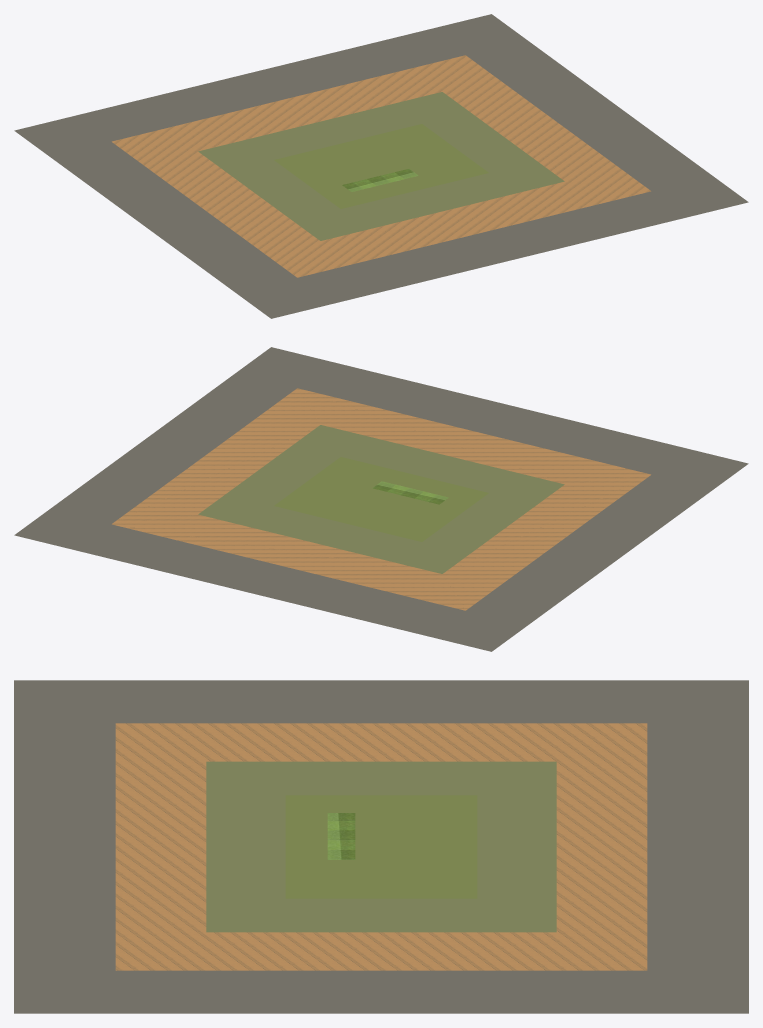
The model's file is plano.obj.
The picture shows the model from 3 angles, top to bottom: view 1: azimuth 30°, elevation 25°; view 2: azimuth 150°, elevation 25°; view 3: azimuth 270°, elevation 25°; orthographic projection. The views are drawn at different scales.
Visible parts, largest first — view 1: Mesh1 skp9FBC1 Model; view 2: Mesh1 skp9FBC1 Model; view 3: Mesh1 skp9FBC1 Model.
Part boxes in pixels (x1,y1,x2,y2): Mesh1 skp9FBC1 Model: (14, 14, 748, 318); Mesh1 skp9FBC1 Model: (14, 347, 748, 651); Mesh1 skp9FBC1 Model: (14, 680, 748, 1013).
Bounding box in the file's own units: 600133 × 0 × 559738.
